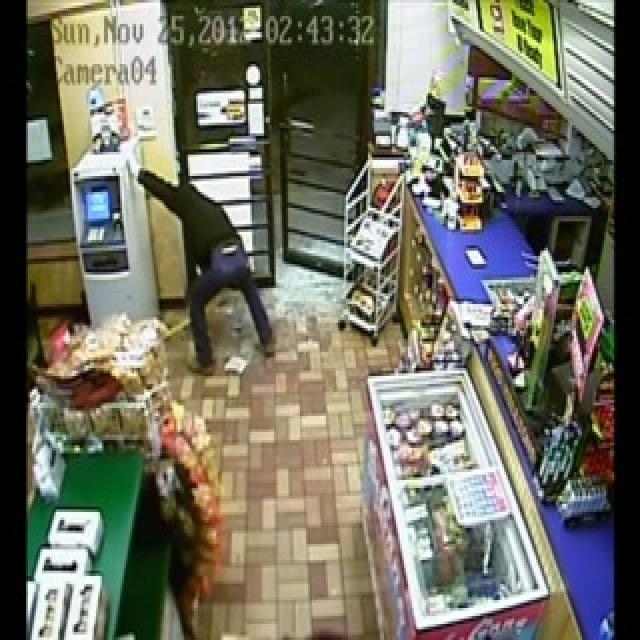thief: (149, 173, 272, 372)
